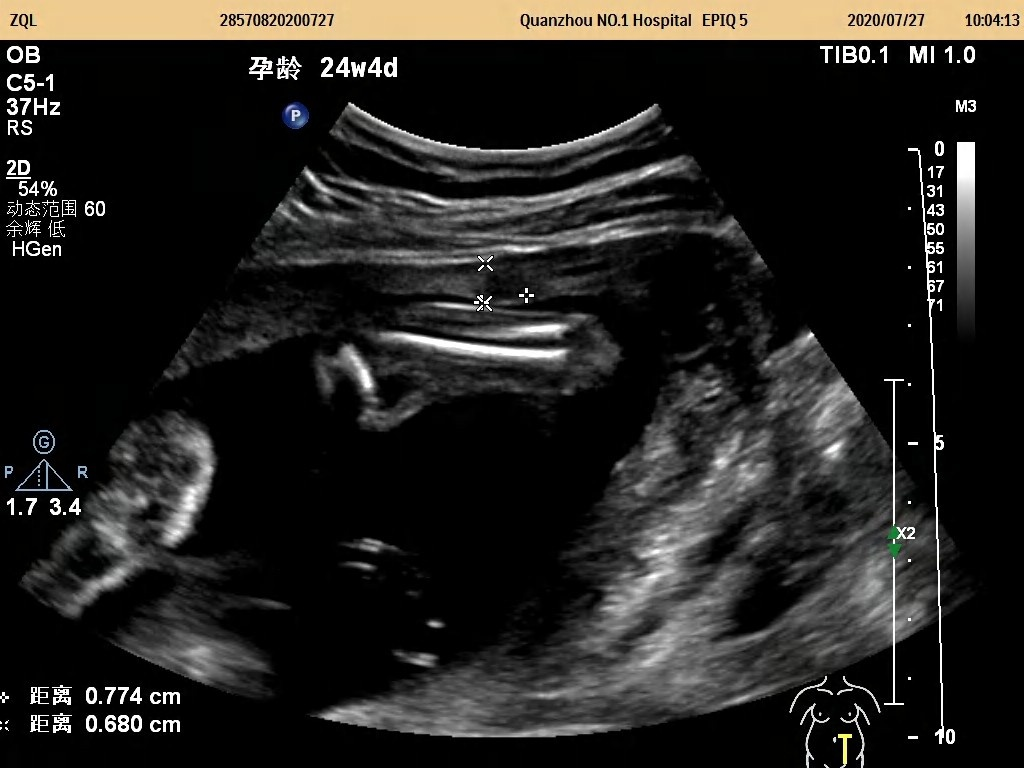肌瘤: (480, 256, 526, 301)
